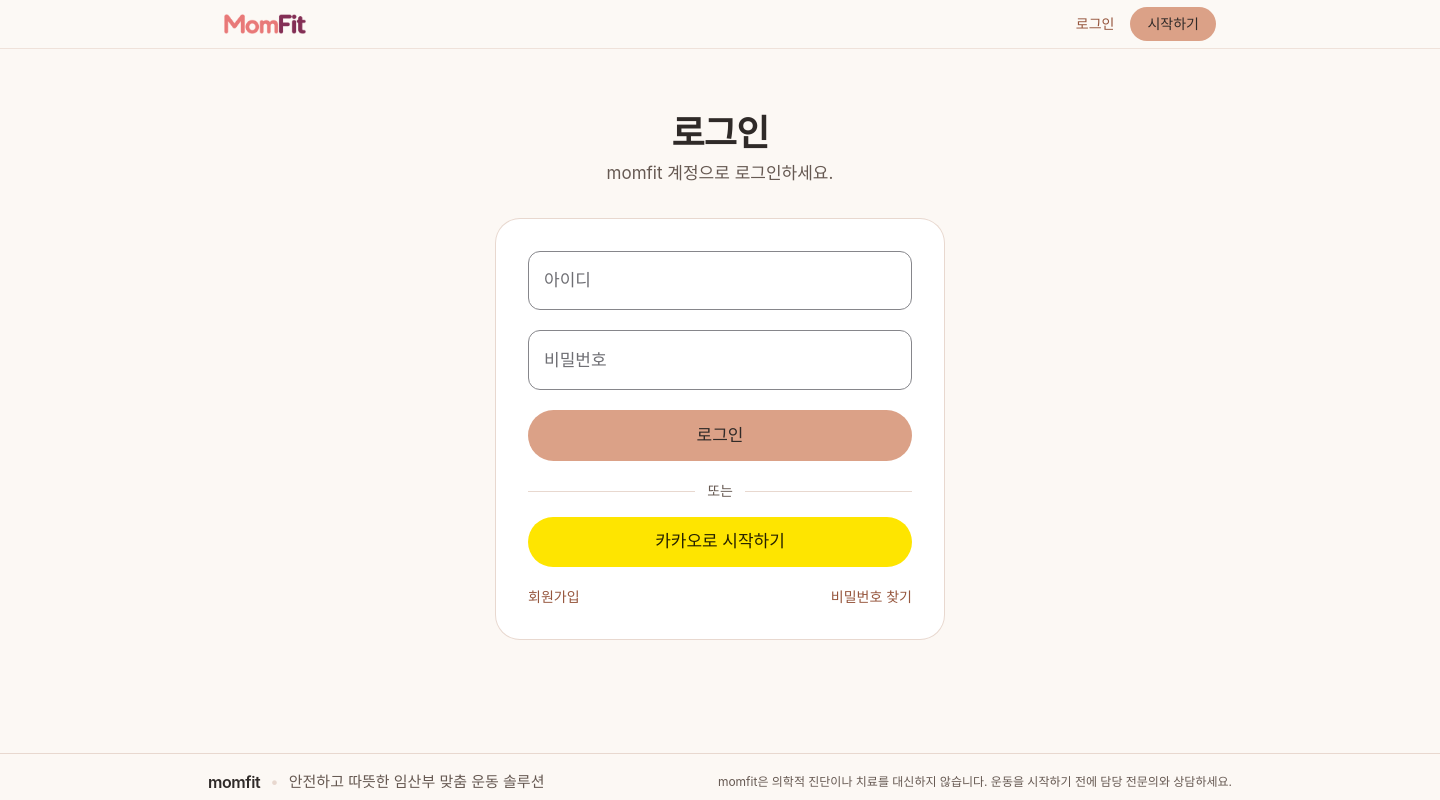
Scenario: 화면 전환 애니메이션 › 경로가 바뀌면 래퍼를 새로 만들어 애니메이션을 다시 재생한다
The image size is (1440, 800).
Click the link "회원가입".
click(554, 596)  # box x1=528 y1=586 x2=580 y2=606
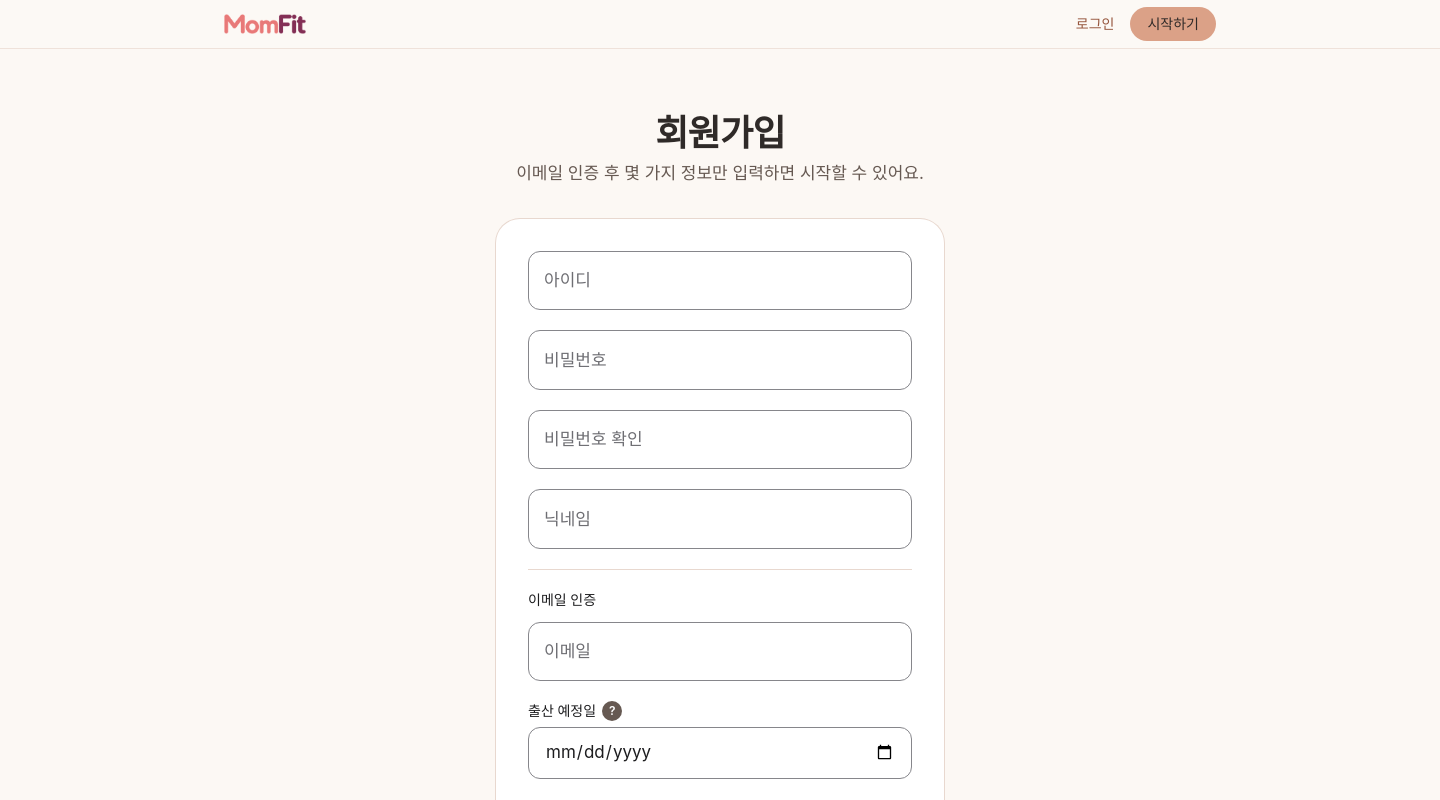
Now the heading "회원가입" is shown, box x1=655 y1=111 x2=785 y2=155
